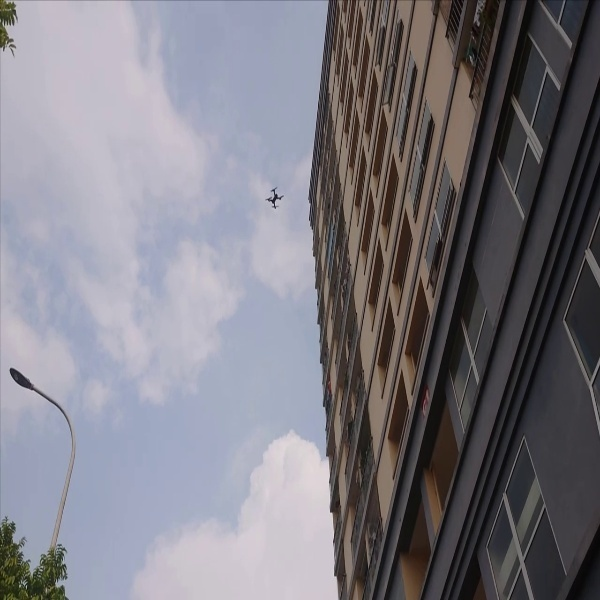drone: (258, 184, 288, 214)
